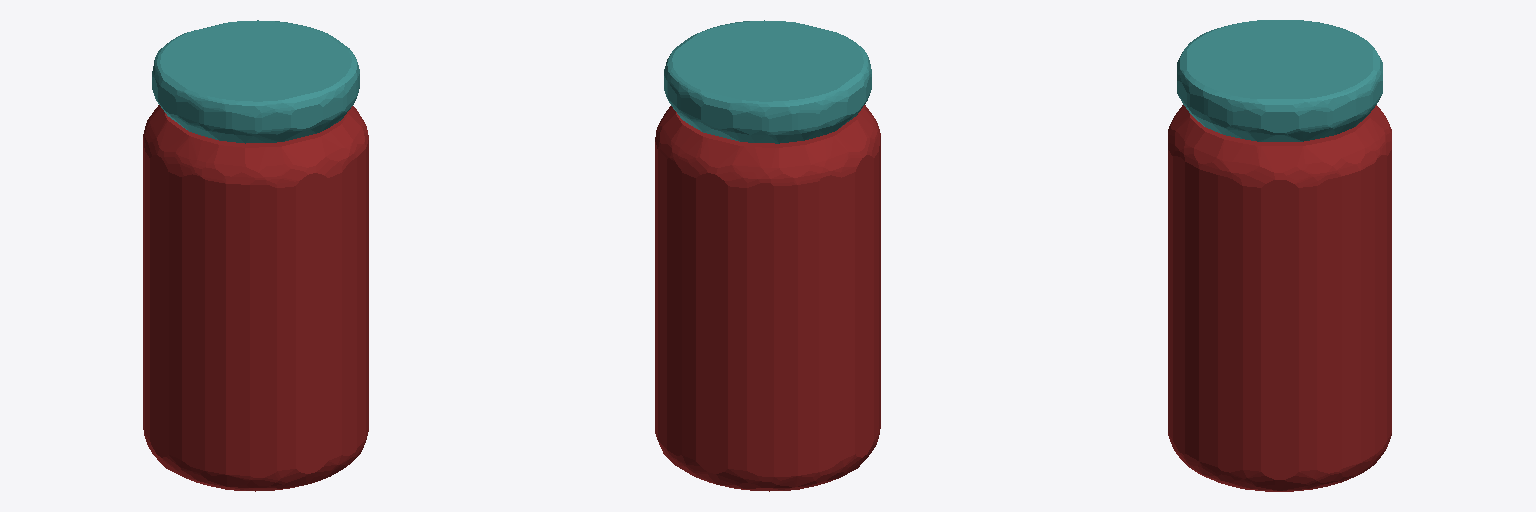
The robot description file, URDF, robot "root":
<robot name="root">
  <link name="bottle_body">
    <inertial>
      <origin xyz="0 0 0" rpy="0 0 0"/>
    </inertial>
    <mass value="1.00E-02"/>
    <visual>
      <origin xyz="0 0 0" rpy="0 0 0"/>
      <geometry>
        <mesh filename="core-bottle-b8767b71c2216dcad317c475f024f3b8-coacd_convex_piece_1.obj" scale="1.0000E-01 1.0000E-01 1.0000E-01"/>
      </geometry>
      <material name="">
        <color rgba="6.00E-01 2.00E-01 2.00E-01 1"/>
      </material>
    </visual>
    <collision>
      <origin xyz="0 0 0" rpy="0 0 0"/>
      <geometry>
        <mesh filename="core-bottle-b8767b71c2216dcad317c475f024f3b8-coacd_convex_piece_1.obj" scale="1.0000E-01 1.0000E-01 1.0000E-01"/>
      </geometry>
    </collision>
  </link>
  <link name="bottle_cap">
    <origin xyz="0 0 0.002" rpy="0 0 0"/>
    <mass value="1.00E-02"/>
    <visual>
      <origin xyz="0 0 0.002" rpy="0 0 0"/>
      <geometry>
        <mesh filename="core-bottle-b8767b71c2216dcad317c475f024f3b8-coacd_convex_piece_0.obj" scale="1.0000E-01 1.0000E-01 1.0000E-01"/>
      </geometry>
      <material name="">
        <color rgba="3.00E-01 6.00E-01 6.00E-01 1"/>
      </material>
    </visual>
    <collision>
      <origin xyz="0 0 0.002" rpy="0 0 0"/>
      <geometry>
        <mesh filename="core-bottle-b8767b71c2216dcad317c475f024f3b8-coacd_convex_piece_0.obj" scale="1.0000E-01 1.0000E-01 1.0000E-01"/>
      </geometry>
    </collision>
  </link>
  <joint name="bottle_cap_joint" type="revolute">
    <origin xyz="0 0 0" rpy="0 0 0"/>
    <parent link="bottle_body"/>
    <child link="bottle_cap"/>
    <axis xyz="0 0 1"/>
    <limit lower="0.00" upper="6.28"/>
    <dynamics damping="0.05"/>
  </joint>
</robot>

--- Render facts (derived) ---
The picture shows the robot from 3 angles, left to right: view 1: azimuth 30°, elevation 25°; view 2: azimuth 150°, elevation 25°; view 3: azimuth 270°, elevation 25°; orthographic projection.
Robot: root — 2 links, 1 joints (1 revolute); root link bottle_body; default pose: every joint at zero.
Links seen in each view (by area): view 1: bottle_body, bottle_cap; view 2: bottle_body, bottle_cap; view 3: bottle_body, bottle_cap.
Link boxes in pixels (x1,y1,x2,y2): bottle_body: (143, 105, 368, 491); bottle_cap: (152, 20, 359, 143); bottle_body: (655, 105, 880, 491); bottle_cap: (664, 20, 871, 143); bottle_body: (1168, 105, 1391, 491); bottle_cap: (1177, 20, 1382, 141).
Bounding box of the posed robot: 0.0937 × 0.0937 × 0.1816 m (x, y, z).
Meshes: 2 distinct files referenced, 2 mesh visuals loaded (2 OBJ).